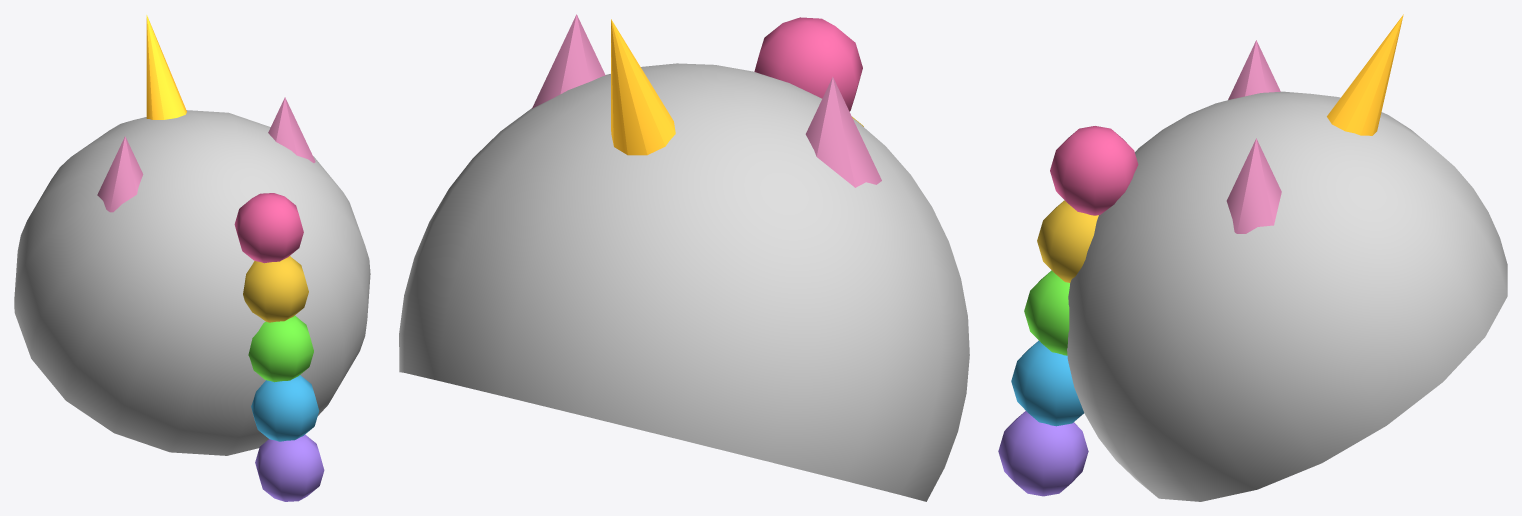
File: outfit-unicornOnesie.glb
3 views of the same model, side by side, from view 1: azimuth 30°, elevation 25°; view 2: azimuth 150°, elevation 25°; view 3: azimuth 270°, elevation 25° (orthographic). The views are drawn at different scales.
Visible parts, largest first — view 1: head; view 2: head; view 3: head.
Boxes of the visible parts, bbox=[...] form: head: bbox=[14, 15, 370, 501]; head: bbox=[399, 14, 969, 501]; head: bbox=[998, 14, 1507, 501].
Size of the model in its own units: 0.6993 by 0.8182 by 0.7895.
